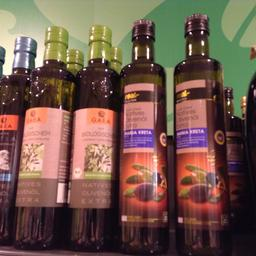oil: (169, 12, 230, 252), (12, 25, 74, 249), (64, 24, 120, 249), (118, 18, 170, 252)
